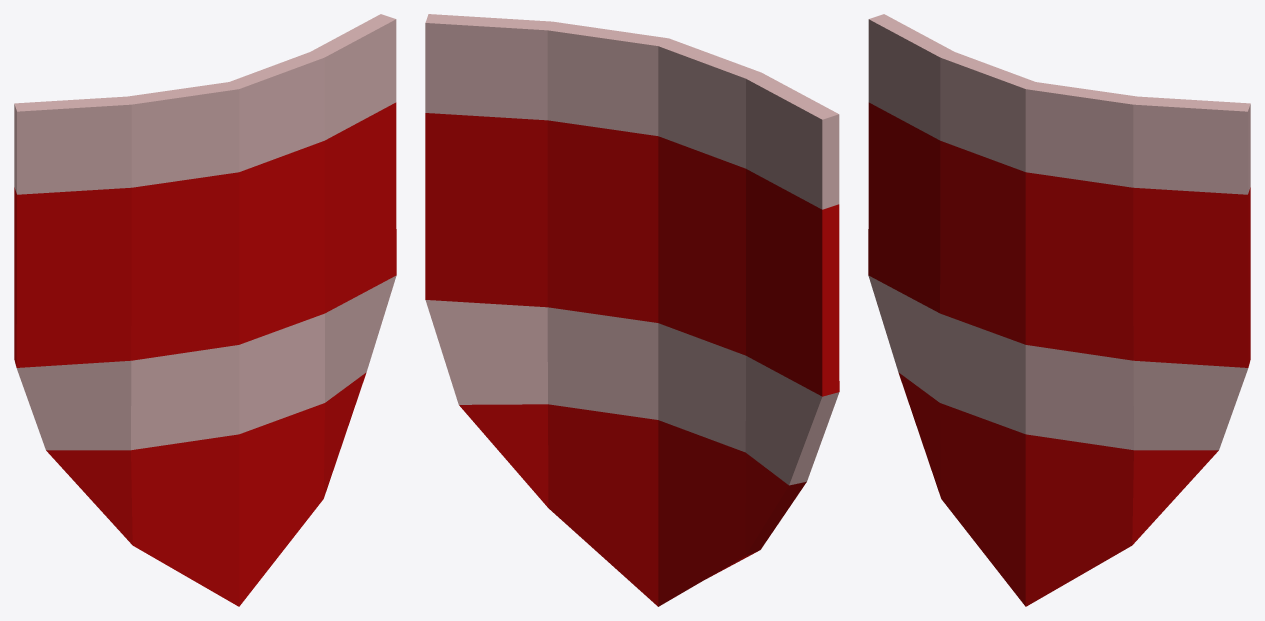
Rendered from Shield_of_Little_Vídeň.fbx.
The picture shows the model from 3 angles, left to right: view 1: azimuth 30°, elevation 25°; view 2: azimuth 150°, elevation 25°; view 3: azimuth 330°, elevation 25°; orthographic projection. The views are drawn at different scales.
Visible parts, largest first — view 1: Shield_of_Little_Vídeň; view 2: Shield_of_Little_Vídeň; view 3: Shield_of_Little_Vídeň.
Boxes of the visible parts, bbox=[...] form: Shield_of_Little_Vídeň: bbox=[14, 14, 396, 606]; Shield_of_Little_Vídeň: bbox=[425, 14, 839, 606]; Shield_of_Little_Vídeň: bbox=[868, 14, 1250, 606].
Bounding box in the file's own units: 207 × 270 × 39.3.
